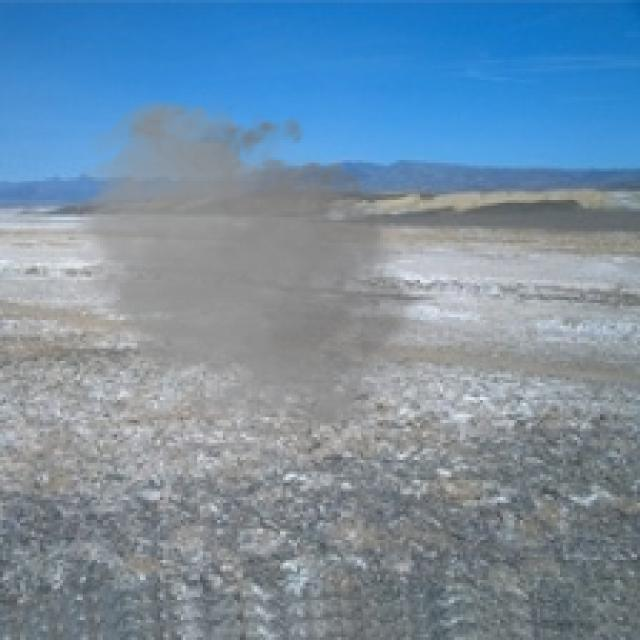smoke: (66, 94, 440, 440)
